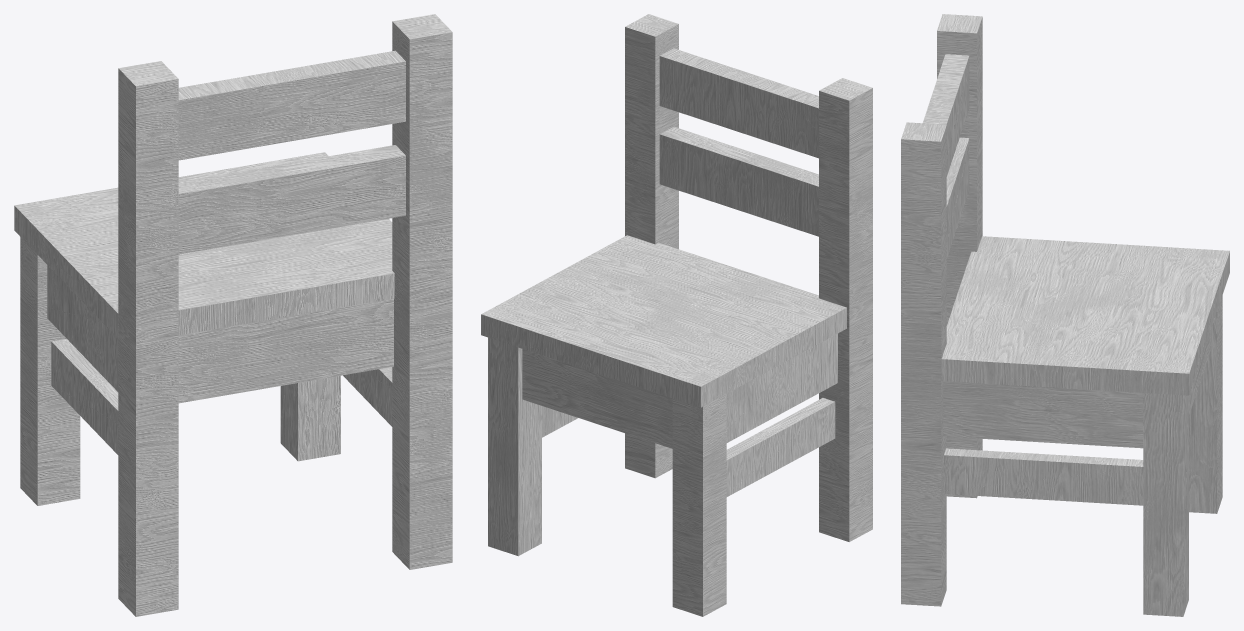
The model's file is Chair.fbx.
3 views of the same model, side by side, from view 1: azimuth 30°, elevation 25°; view 2: azimuth 150°, elevation 25°; view 3: azimuth 270°, elevation 25° (orthographic). The views are drawn at different scales.
Parts seen in each view (by area): view 1: DeskChair; view 2: DeskChair; view 3: DeskChair.
Boxes of the visible parts, x1=… form: DeskChair: x1=14, y1=14, x2=452, y2=616; DeskChair: x1=481, y1=14, x2=872, y2=616; DeskChair: x1=901, y1=14, x2=1229, y2=616.
Bounding box in the file's own units: 692 × 1063 × 681.
1 material, 1 textured.
